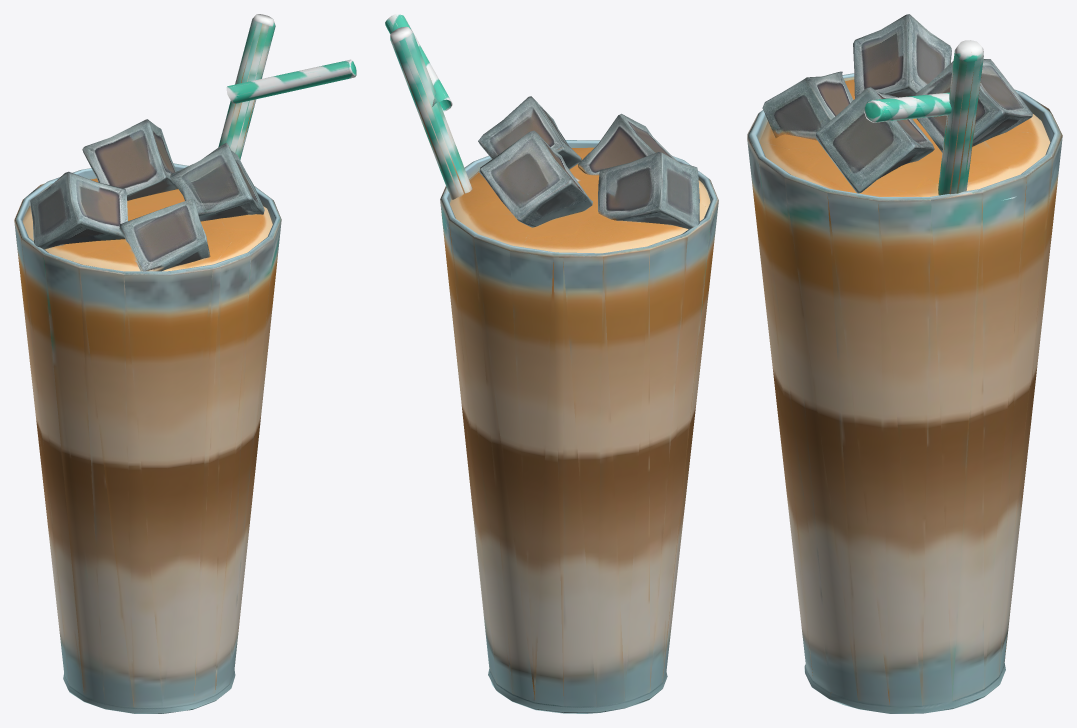
The model's file is food_iced_coffee.glb.
3 views of the same model, side by side, from view 1: azimuth 30°, elevation 25°; view 2: azimuth 150°, elevation 25°; view 3: azimuth 270°, elevation 25° (orthographic). The views are drawn at different scales.
Size of the model in its own units: 0.5368 by 1 by 0.4028.
1 material, 1 textured.
